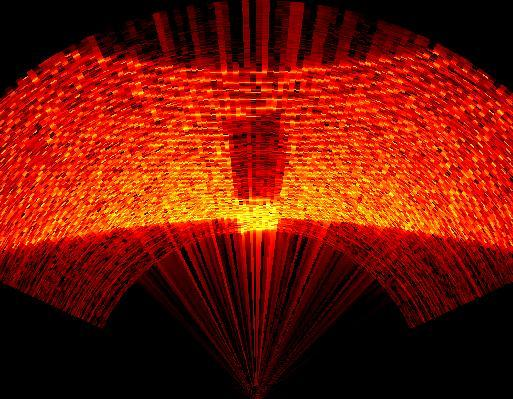box_crate: (223, 108, 293, 203)
